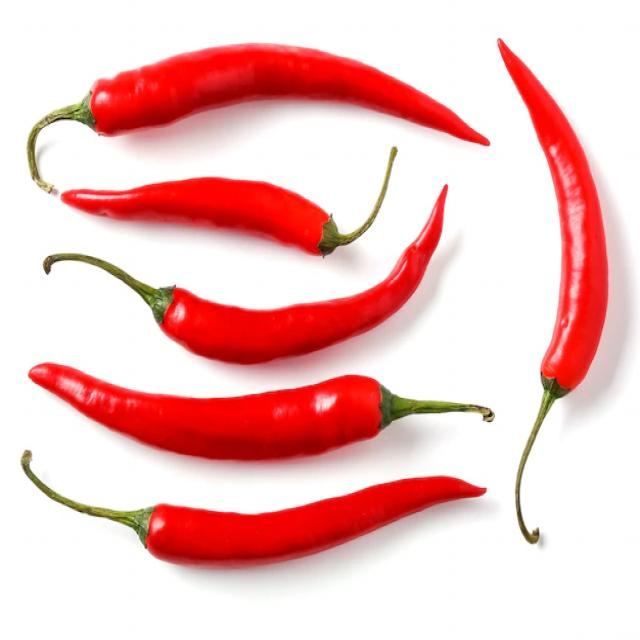red chili: (43, 187, 448, 363), (27, 44, 490, 191), (500, 38, 609, 544), (20, 451, 487, 567), (61, 148, 395, 255), (29, 364, 382, 461)
